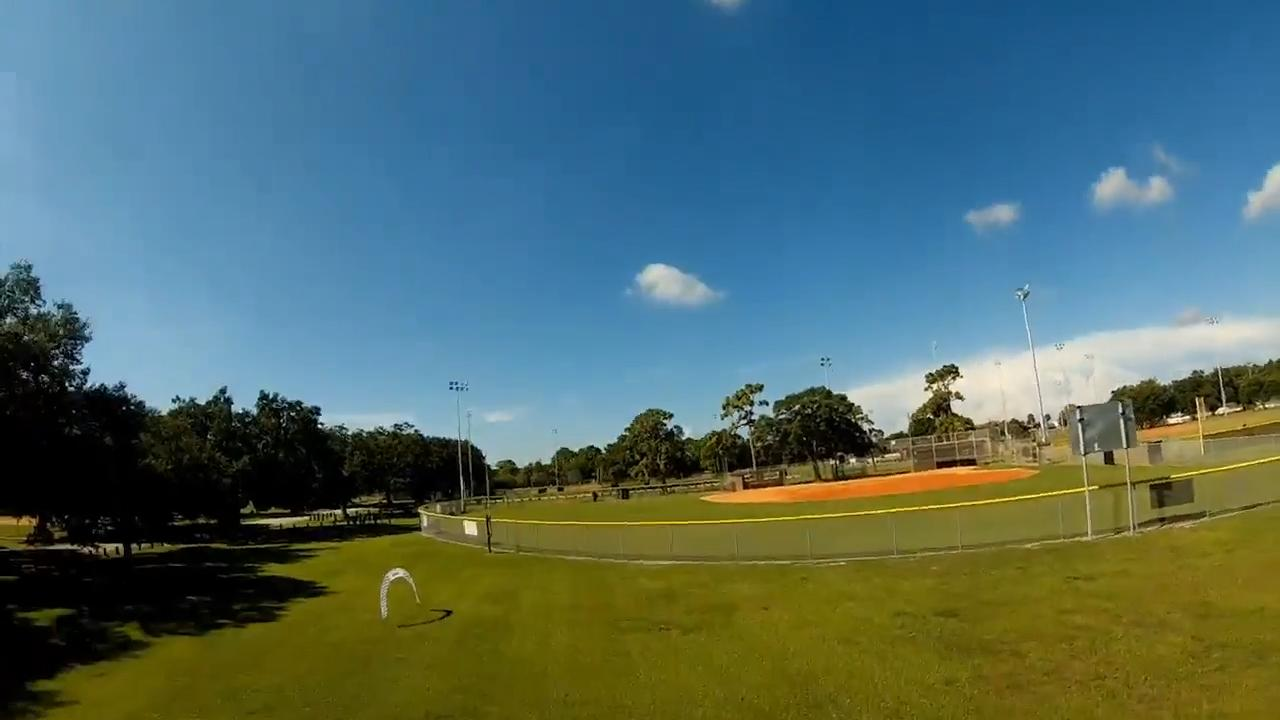gate: (376, 565, 423, 622)
